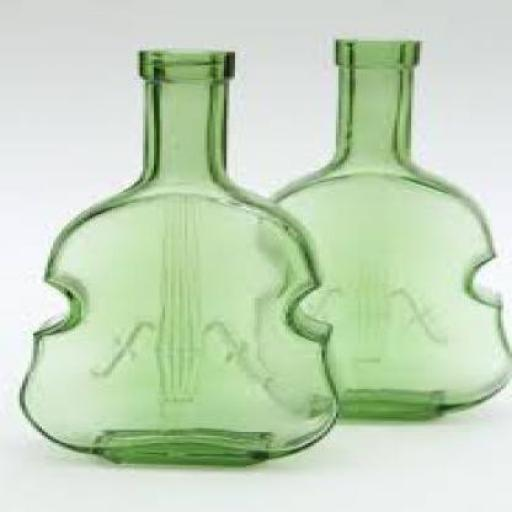glass: (16, 48, 336, 468), (252, 39, 509, 421)
